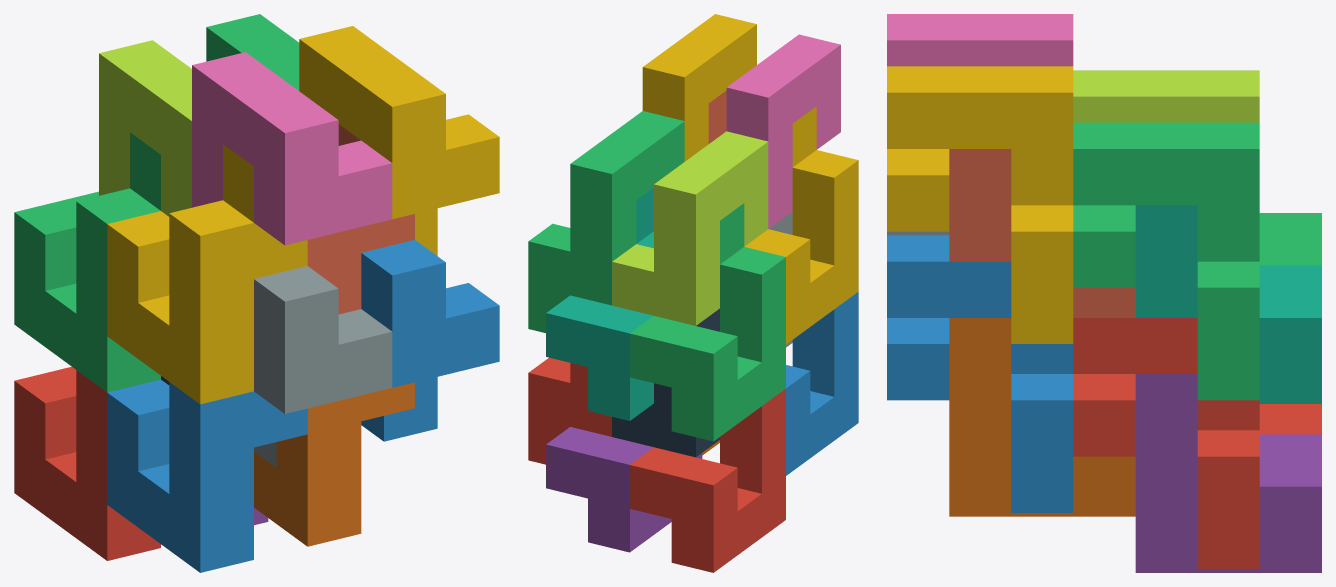
The model's file is tiling.obj.
3 renders of one model, left to right at view 1: azimuth 30°, elevation 25°; view 2: azimuth 150°, elevation 25°; view 3: azimuth 270°, elevation 25°, orthographic. The views are drawn at different scales.
Parts seen in each view (by area): view 1: copy_1_domain_4, copy_1_domain_2, copy_2_domain_4, copy_2_domain_8, copy_1_domain_3, copy_2_domain_6, copy_1_domain_1, copy_2_domain_2, copy_1_domain_6, copy_2_domain_3, copy_1_domain_8, copy_2_domain_7; view 2: copy_1_domain_3, copy_2_domain_3, copy_1_domain_1, copy_2_domain_7, copy_1_domain_4, copy_2_domain_4, copy_1_domain_2, copy_1_domain_7, copy_2_domain_8, copy_1_domain_5, copy_2_domain_5, copy_2_domain_1 (+1 smaller); view 3: copy_2_domain_7, copy_2_domain_8, copy_2_domain_6, copy_2_domain_5, copy_1_domain_5, copy_1_domain_6, copy_1_domain_7, copy_2_domain_3, copy_2_domain_4, copy_1_domain_8, copy_1_domain_3, copy_1_domain_1.
Boxes of the visible parts, x1,y1,x2,y2 form: copy_1_domain_4: (107, 144, 307, 404); copy_1_domain_2: (107, 379, 307, 572); copy_2_domain_4: (192, 52, 392, 245); copy_2_domain_8: (299, 26, 499, 255); copy_1_domain_3: (14, 132, 160, 392); copy_2_domain_6: (361, 240, 499, 441); copy_1_domain_1: (14, 366, 160, 560); copy_2_domain_2: (254, 266, 392, 467); copy_1_domain_6: (254, 382, 414, 546); copy_2_domain_3: (99, 40, 191, 216); copy_1_domain_8: (307, 124, 414, 314); copy_2_domain_7: (206, 14, 299, 90); copy_1_domain_3: (630, 203, 785, 441); copy_2_domain_3: (612, 131, 768, 325); copy_1_domain_1: (630, 389, 785, 572); copy_2_domain_7: (528, 111, 684, 332); copy_1_domain_4: (744, 106, 858, 344); copy_2_domain_4: (726, 34, 840, 228); copy_1_domain_2: (786, 292, 858, 475); copy_1_domain_7: (546, 187, 653, 420); copy_2_domain_8: (642, 14, 756, 161); copy_1_domain_5: (546, 427, 702, 552); copy_2_domain_5: (528, 357, 611, 464); copy_2_domain_1: (612, 308, 719, 457); copy_2_domain_7: (1073, 122, 1259, 400); copy_2_domain_8: (887, 66, 1073, 343); copy_2_domain_6: (887, 235, 1073, 512); copy_2_domain_5: (1073, 318, 1259, 569); copy_1_domain_5: (1135, 374, 1321, 572); copy_1_domain_6: (949, 318, 1135, 516); copy_1_domain_7: (1135, 205, 1321, 403); copy_2_domain_3: (1073, 70, 1259, 122); copy_2_domain_4: (887, 14, 1073, 66); copy_1_domain_8: (949, 149, 1135, 317); copy_1_domain_3: (1259, 213, 1321, 265); copy_1_domain_1: (1259, 404, 1321, 434).
Size of the model in its own units: 5 by 9 by 7.
